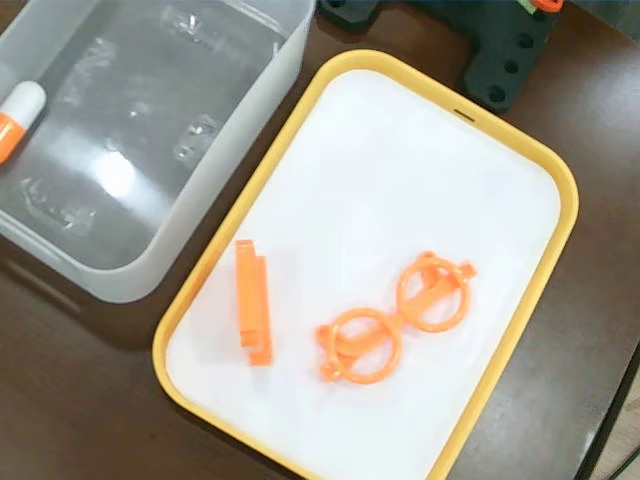pill: (0, 77, 48, 165)
